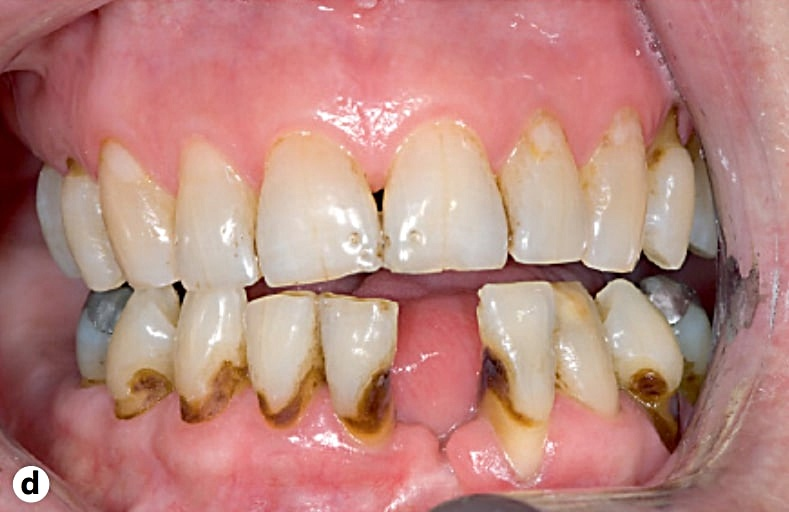karies: (627, 364, 678, 450), (638, 91, 693, 170), (254, 371, 323, 431), (177, 371, 240, 432), (349, 365, 392, 443), (118, 366, 172, 423), (473, 352, 513, 408), (680, 355, 720, 411), (360, 224, 403, 271), (56, 150, 98, 185)
